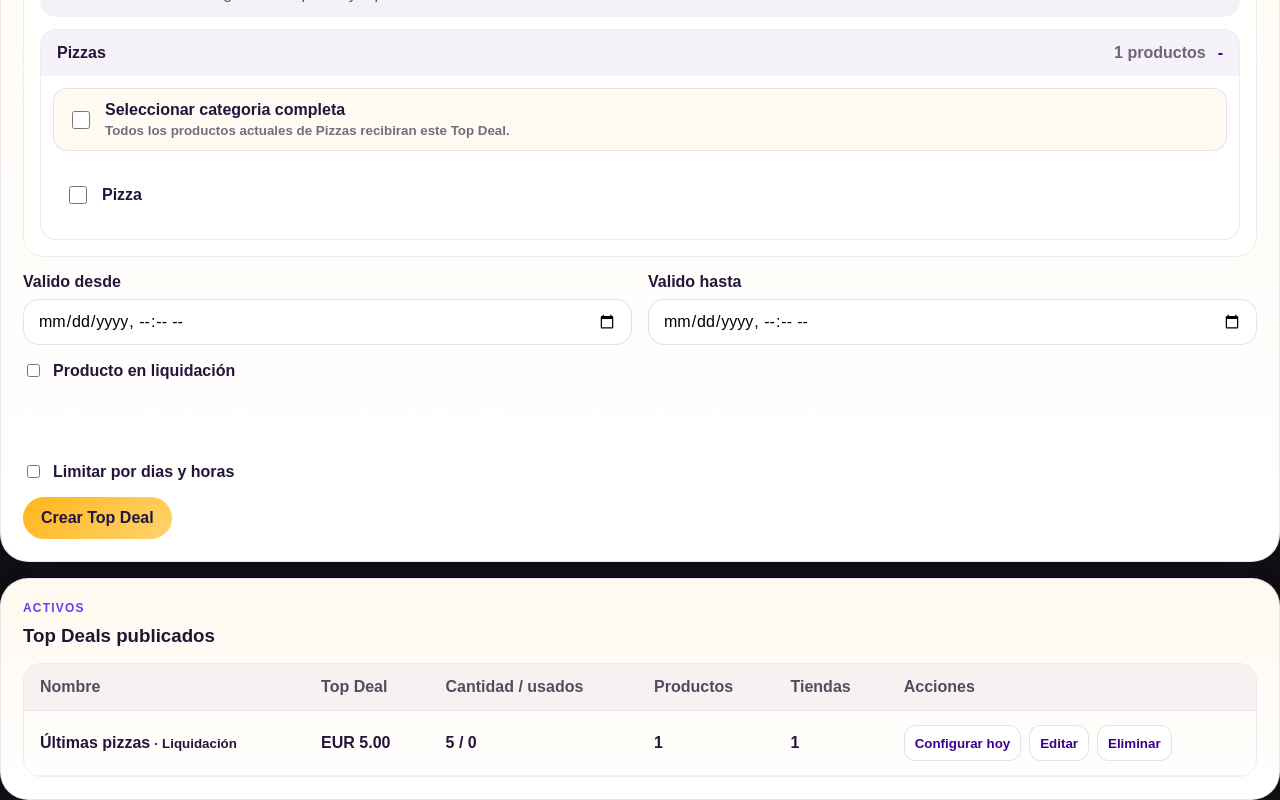
Test case: saving explains removal of deleted products while keeping the clearance choice
The width and height of the screenshot is (1280, 800).
(page scrolled)
Click the button "Editar" at (1059, 743), box left=1029, top=725, right=1089, bottom=761
(page scrolled)
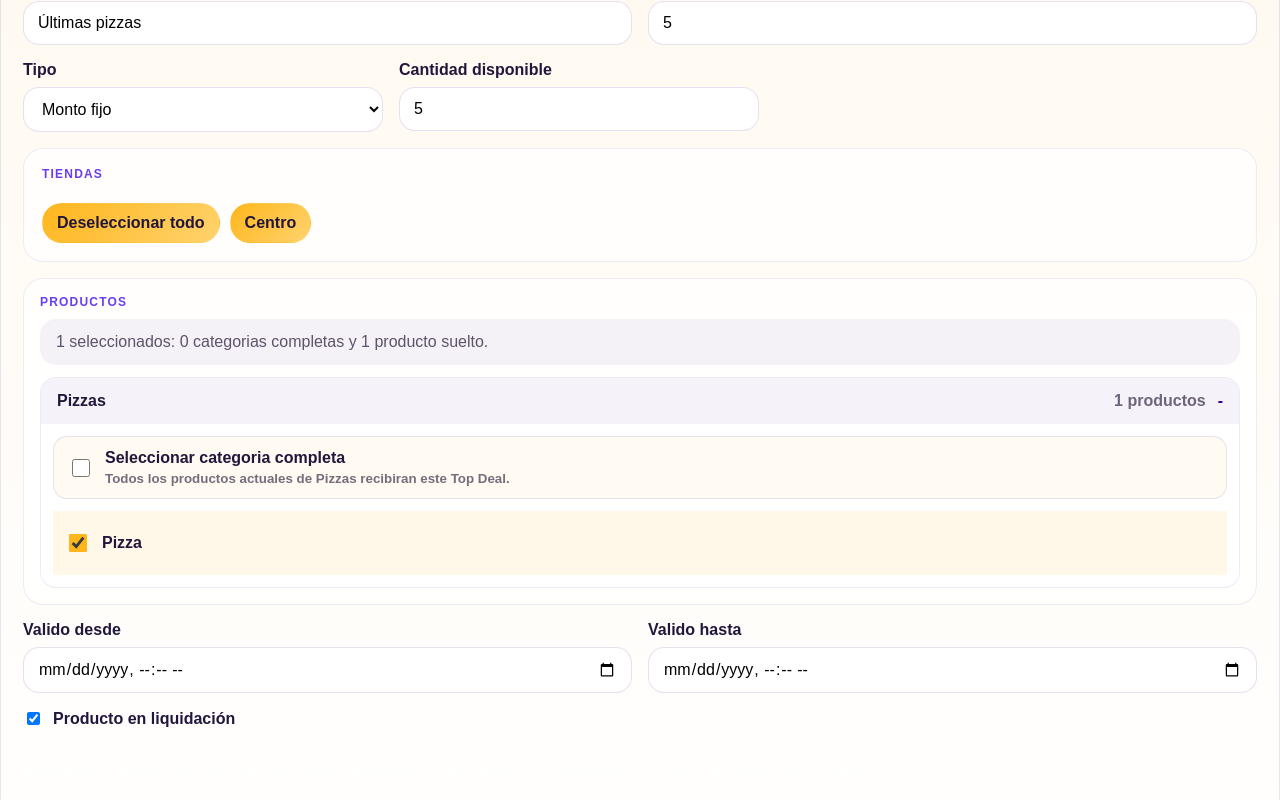
Submit the form named "Producto en liquidación"
(page scrolled)
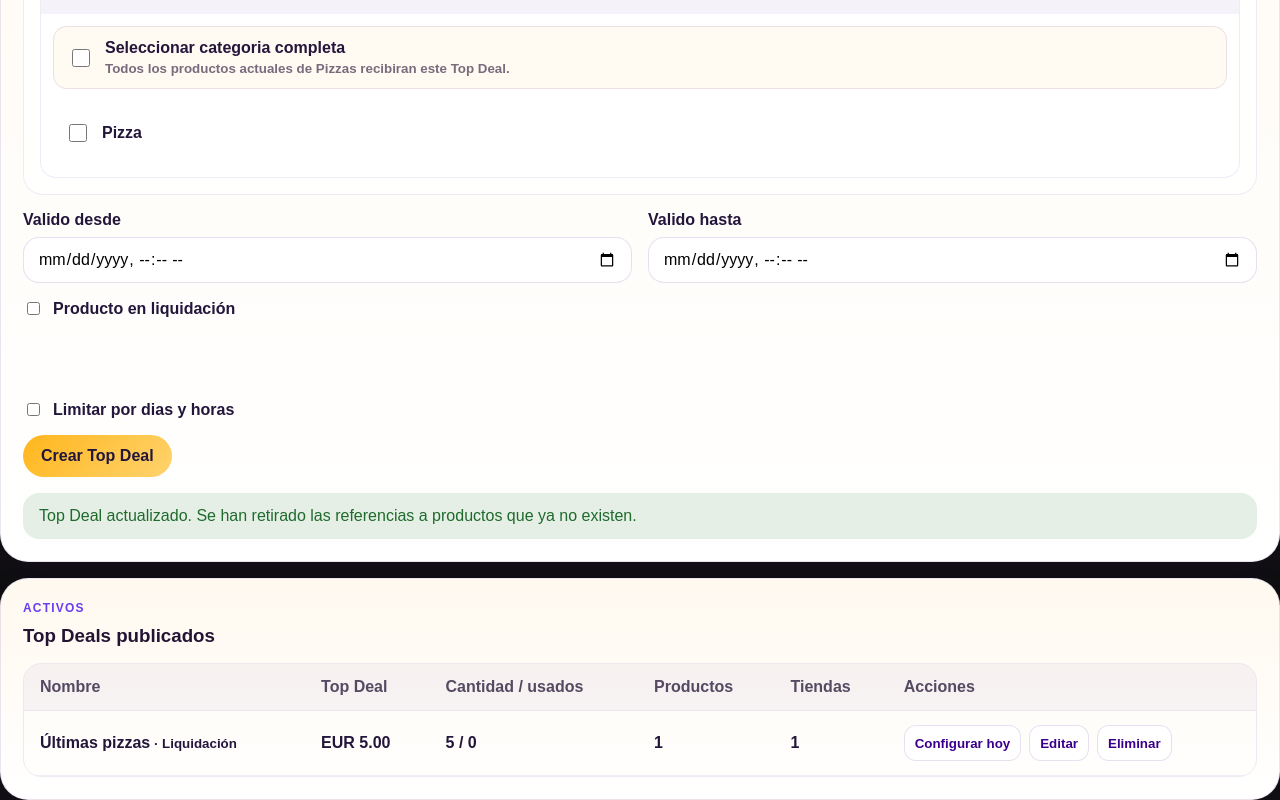
Now the text "Top Deal actualizado. Se han retirado las referencias a productos que ya no existen." is shown, box left=39, top=507, right=637, bottom=524
